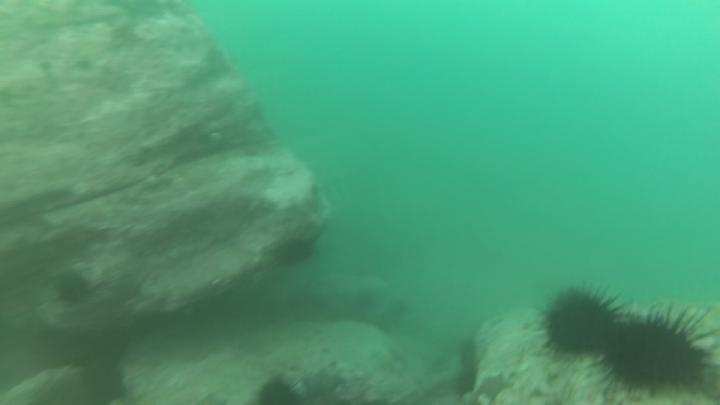echinus: (592, 301, 717, 401), (535, 281, 626, 363), (77, 355, 131, 404), (450, 336, 484, 401), (272, 232, 319, 270), (252, 373, 305, 405), (52, 268, 94, 307)
starfish: (296, 364, 350, 404), (473, 369, 516, 404)
